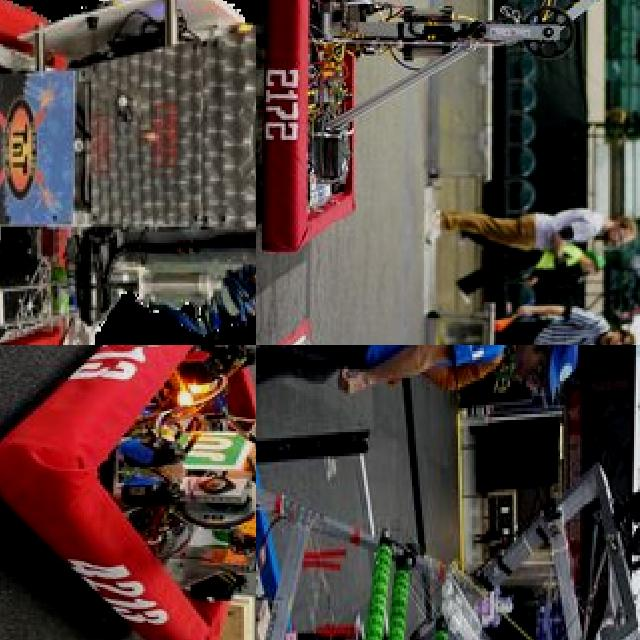FRC-Robots: (256, 0, 640, 288), (0, 0, 256, 345), (256, 431, 633, 640), (0, 345, 256, 640)
